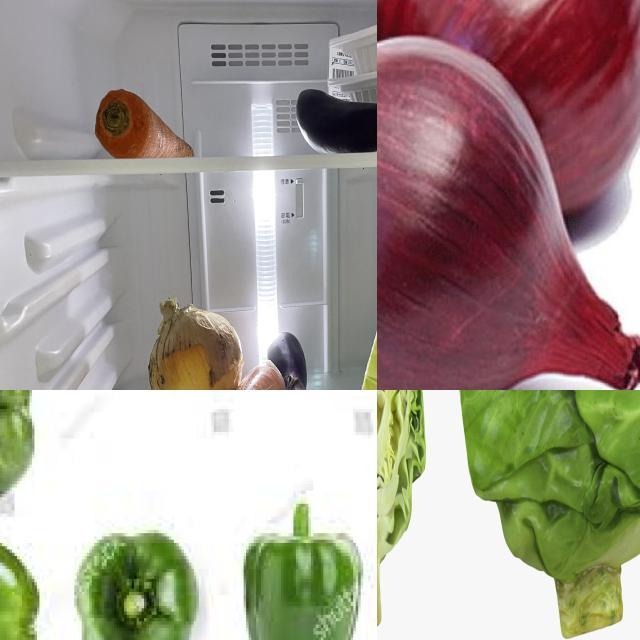bell_pepper: (230, 492, 374, 640), (59, 516, 208, 640), (1, 522, 50, 640), (1, 391, 49, 508)
cabbage: (441, 391, 640, 640)
carrot: (98, 88, 197, 162), (180, 360, 288, 391)
eggplant: (297, 85, 378, 159), (270, 332, 319, 391)
onion: (378, 34, 640, 391), (378, 1, 640, 225), (150, 302, 248, 391)
